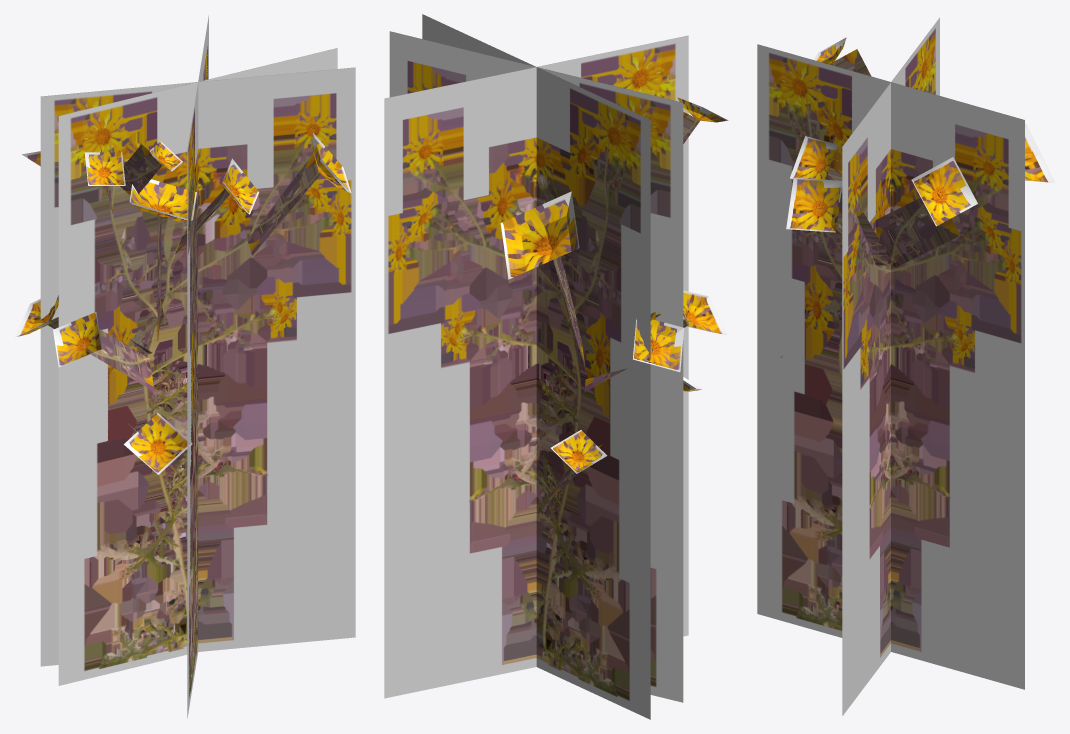
File: UnderGrowthK.fbx
The picture shows the model from 3 angles, left to right: view 1: azimuth 30°, elevation 25°; view 2: azimuth 150°, elevation 25°; view 3: azimuth 270°, elevation 25°; orthographic projection. The views are drawn at different scales.
Parts seen in each view (by area): view 1: UnderGrowthK, UnderGrowthJdoubleSided; view 2: UnderGrowthK, UnderGrowthJdoubleSided; view 3: UnderGrowthK, UnderGrowthJdoubleSided.
Boxes of the visible parts, bbox=[...] form: UnderGrowthK: bbox=[15, 15, 355, 718]; UnderGrowthJdoubleSided: bbox=[14, 20, 355, 716]; UnderGrowthK: bbox=[384, 14, 727, 719]; UnderGrowthJdoubleSided: bbox=[384, 15, 728, 719]; UnderGrowthK: bbox=[757, 17, 1055, 715]; UnderGrowthJdoubleSided: bbox=[757, 20, 1040, 715].
Size of the model in its own units: 52.9 by 96.06 by 45.56.
1 material, 1 textured.
